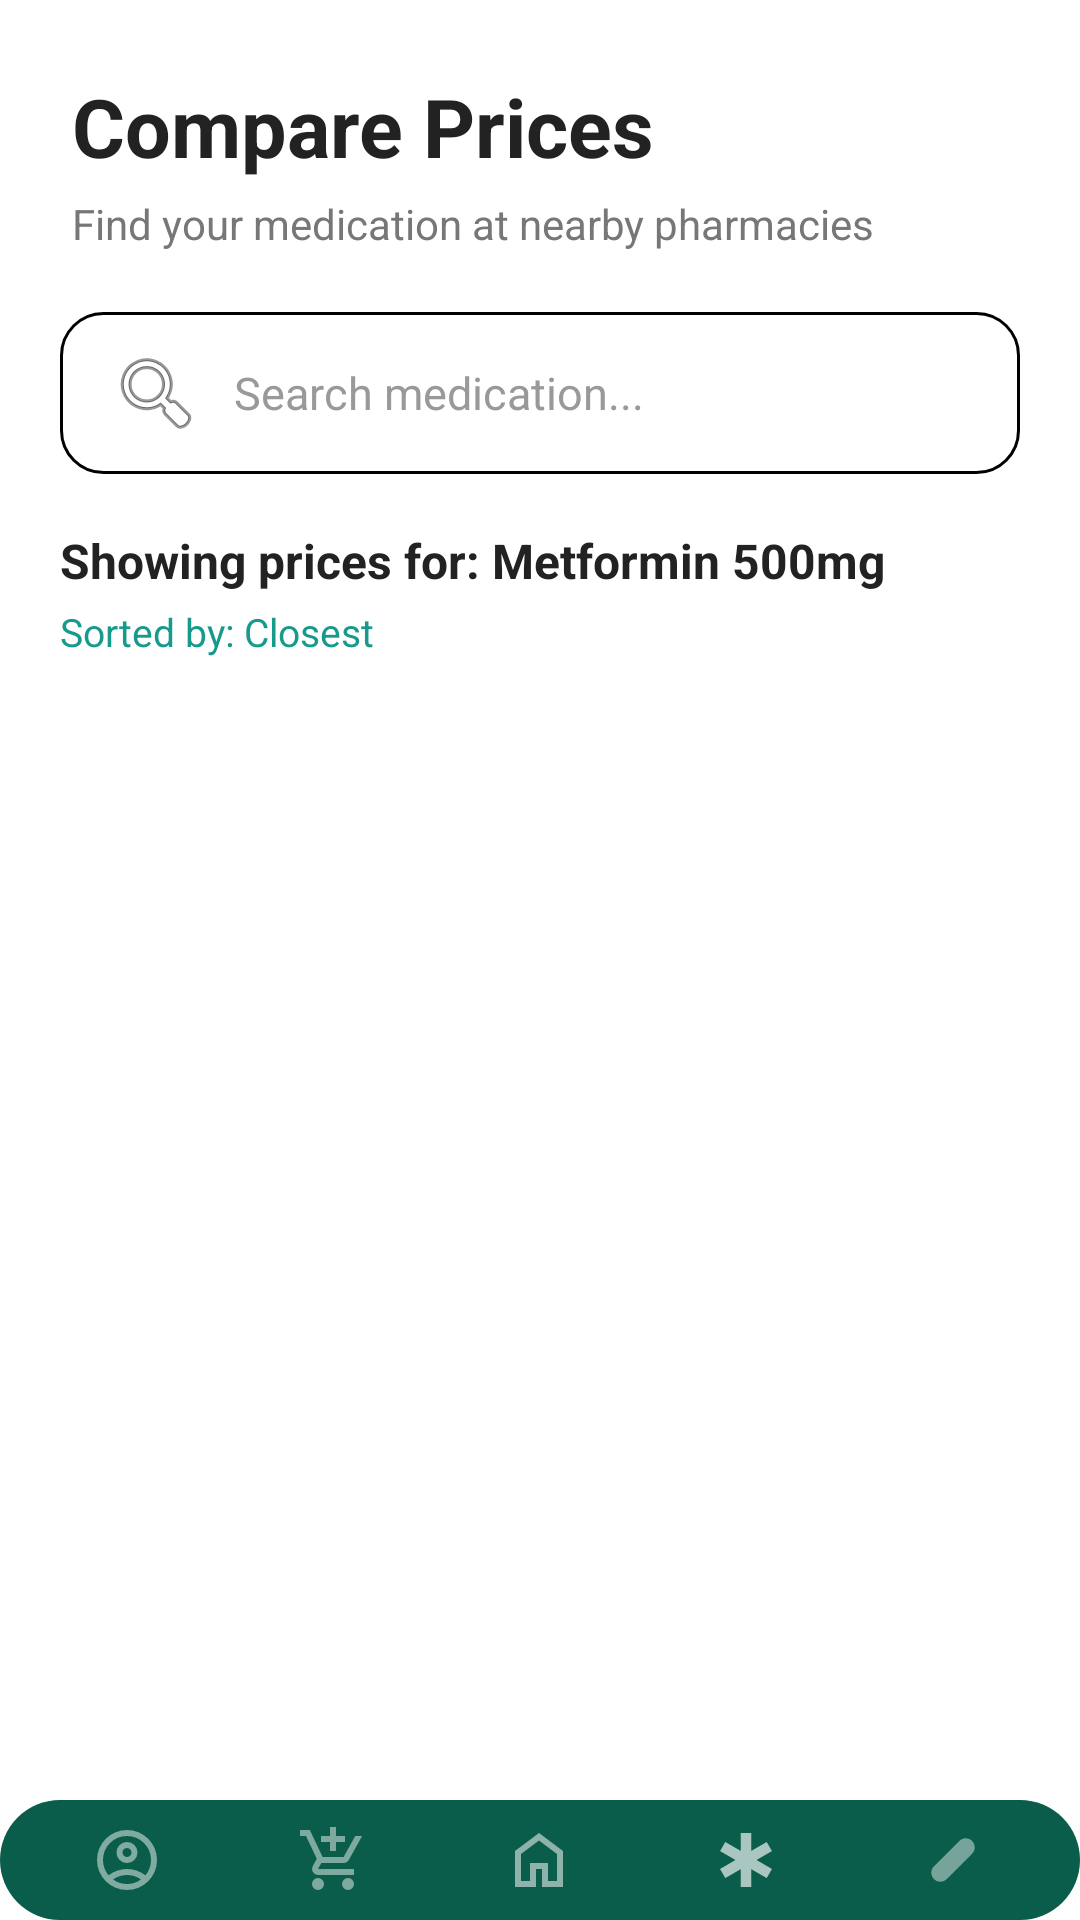

Icons on this 1080 × 1920 Android screen, each with its box as (x1, y1, x2, y2):
account circle: (97, 1830, 157, 1890)
Emergency: (720, 1833, 772, 1887)
home: (515, 1833, 563, 1887)
Medication: (931, 1838, 975, 1882)
